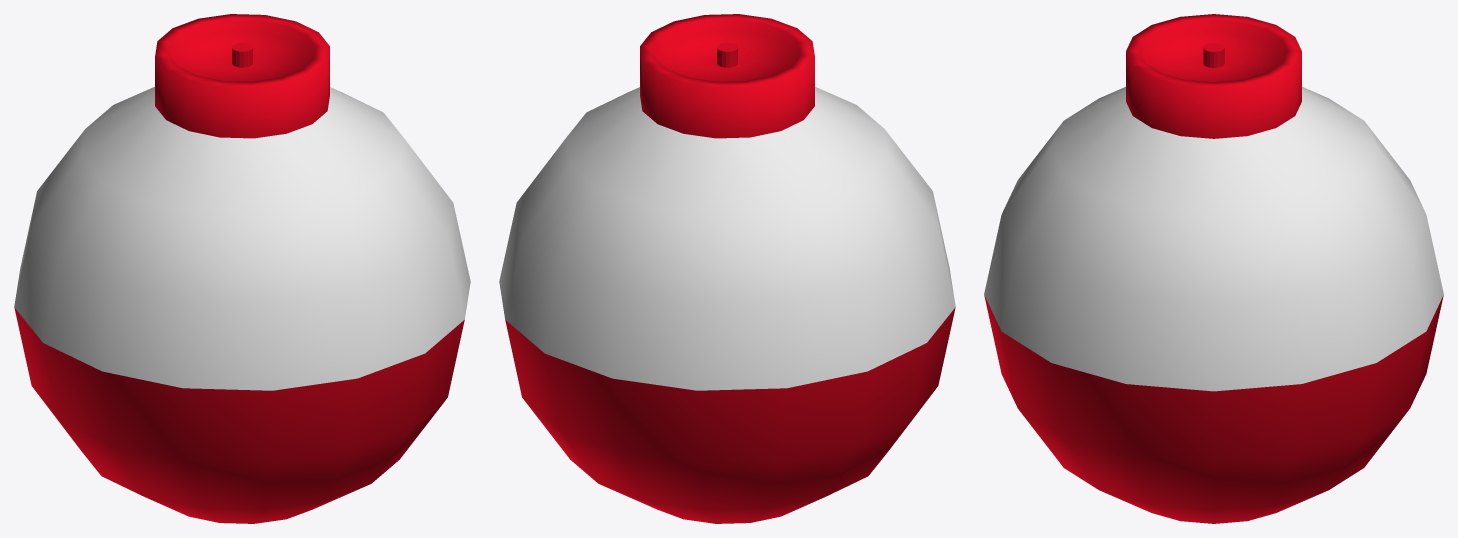
The model's file is Bobber.fbx.
The picture shows the model from 3 angles, left to right: view 1: azimuth 30°, elevation 25°; view 2: azimuth 150°, elevation 25°; view 3: azimuth 270°, elevation 25°; orthographic projection.
Visible parts, largest first — view 1: Sphere.001, Sphere, Sphere.002; view 2: Sphere.001, Sphere, Sphere.002; view 3: Sphere.001, Sphere, Sphere.002.
Boxes of the visible parts, x1=… form: Sphere.001: x1=14, y1=87, x2=470, y2=390; Sphere: x1=14, y1=307, x2=464, y2=523; Sphere.002: x1=155, y1=14, x2=329, y2=138; Sphere.001: x1=499, y1=87, x2=955, y2=390; Sphere: x1=505, y1=307, x2=955, y2=523; Sphere.002: x1=640, y1=14, x2=814, y2=138; Sphere.001: x1=984, y1=87, x2=1443, y2=391; Sphere: x1=984, y1=295, x2=1443, y2=523; Sphere.002: x1=1126, y1=14, x2=1301, y2=138.
Size of the model in its own units: 200 by 218 by 200.
